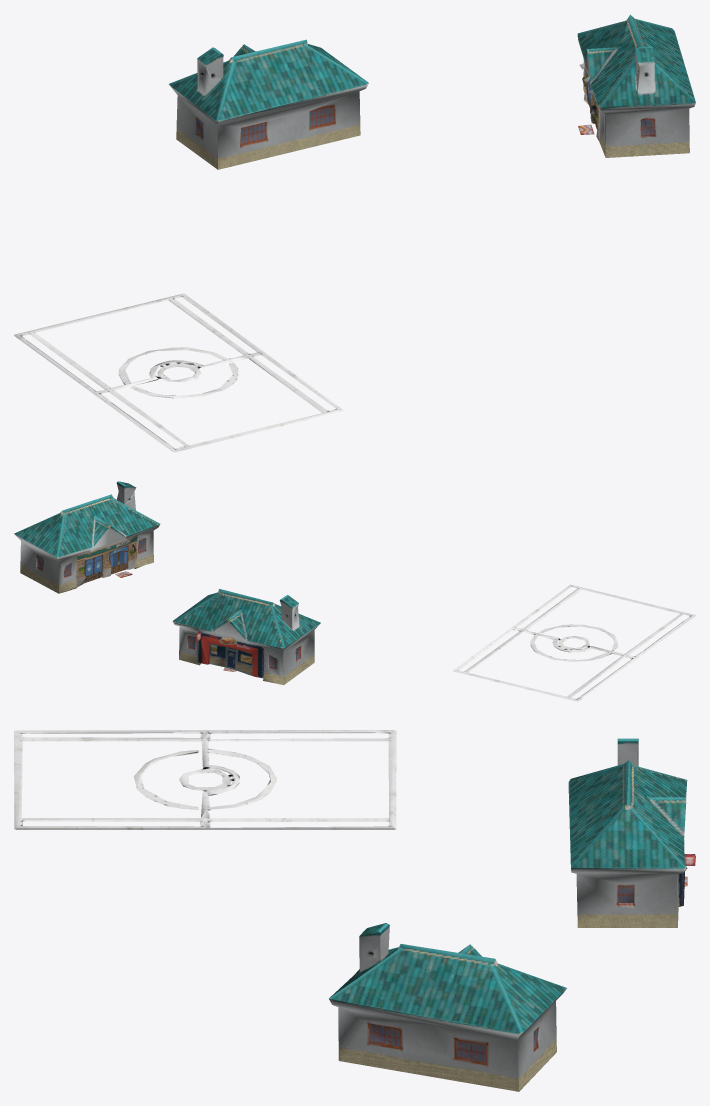
Rendered from clod_town_t07_clod000.gltf.
3 renders of one model, top to bottom at view 1: azimuth 30°, elevation 25°; view 2: azimuth 150°, elevation 25°; view 3: azimuth 270°, elevation 25°, orthographic. The views are drawn at different scales.
Visible parts, largest first — view 1: clod_town_t07_clod000_000_meshShape:remesh_mat; view 2: clod_town_t07_clod000_000_meshShape:remesh_mat; view 3: clod_town_t07_clod000_000_meshShape:remesh_mat.
Part boxes in pixels (x1,y1,x2,y2): clod_town_t07_clod000_000_meshShape:remesh_mat: [14, 14, 695, 452]; clod_town_t07_clod000_000_meshShape:remesh_mat: [14, 481, 695, 701]; clod_town_t07_clod000_000_meshShape:remesh_mat: [14, 730, 695, 1091].
Bounding box in the file's own units: 58.37 × 11.04 × 40.62.
1 material, 1 textured.
